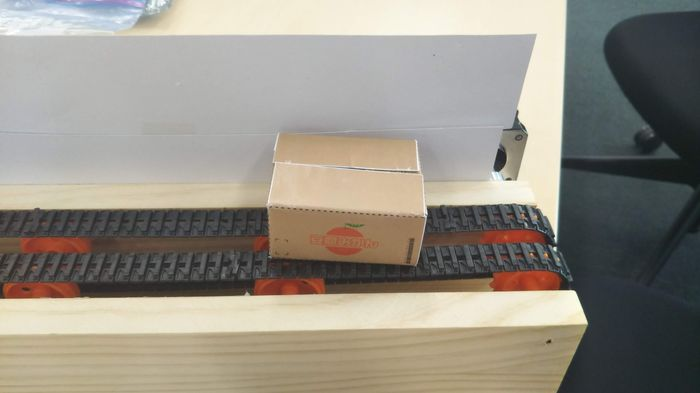box1: (263, 130, 429, 268)
